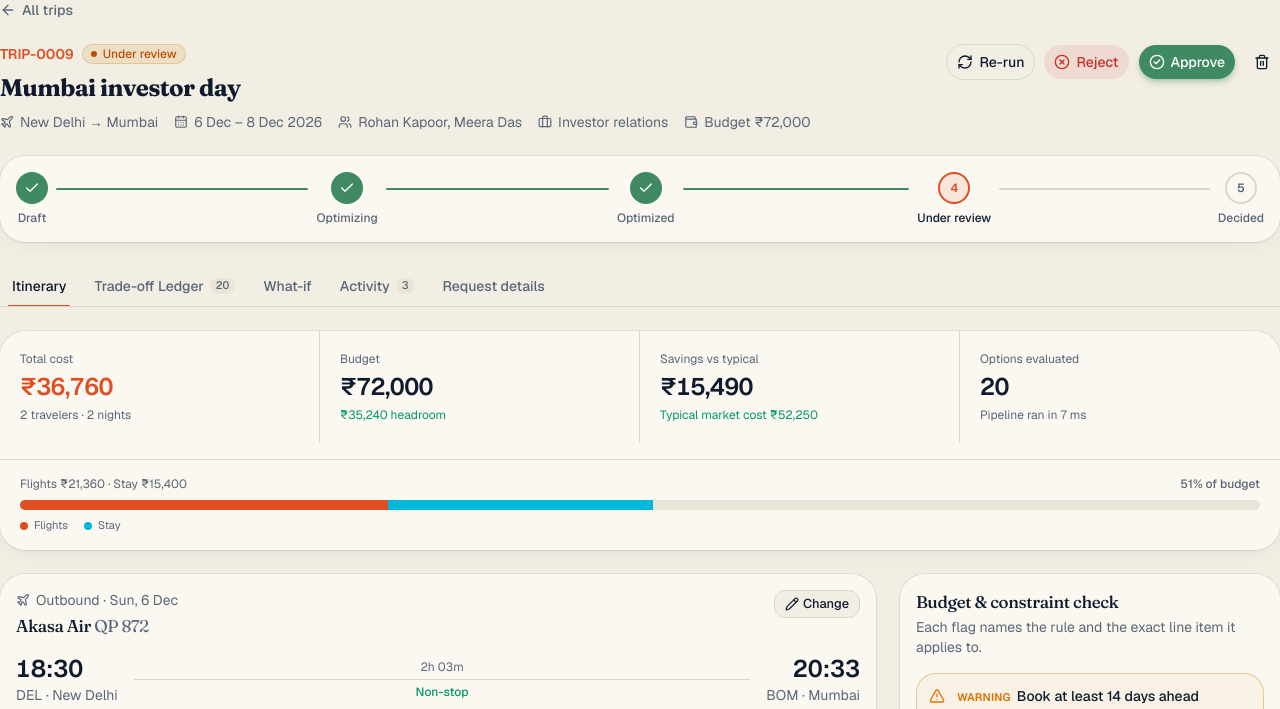
Test: trip review › won't reject without a reason
Click the button "Reject" at (1086, 62), box [1043,44,1130,80]
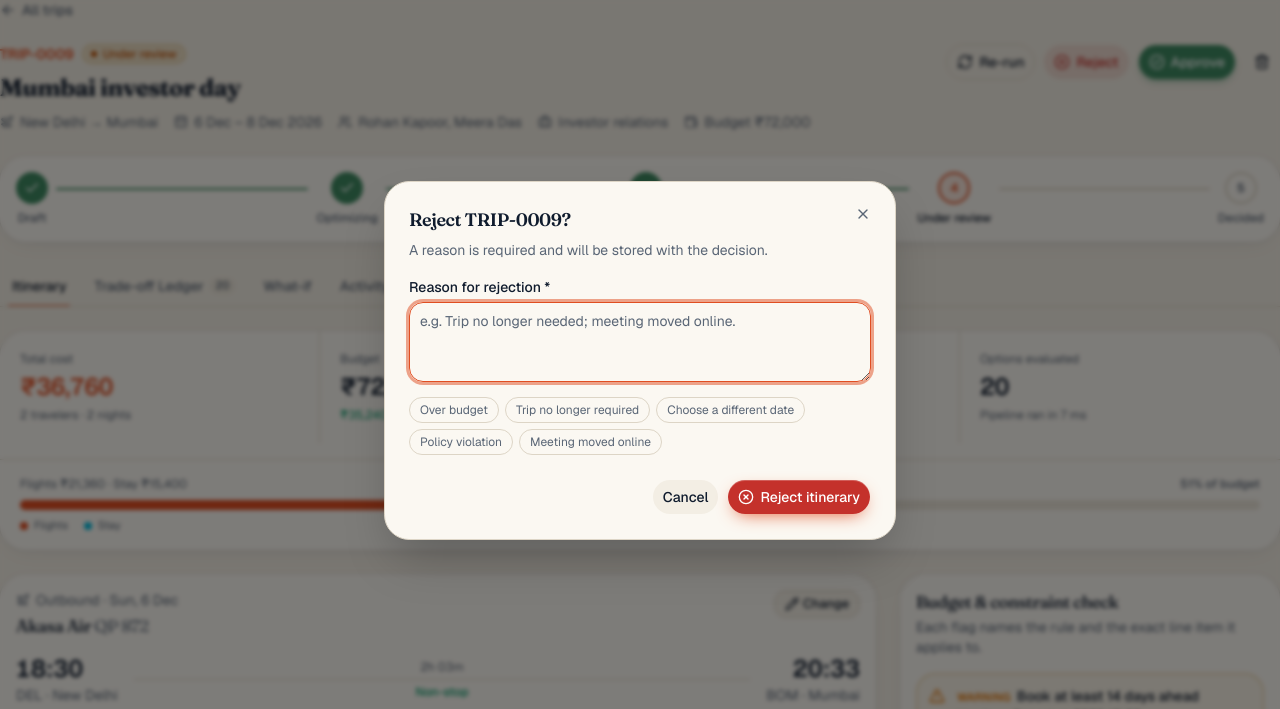
Click the button "Reject itinerary" at (799, 496), box [727,478,871,514]
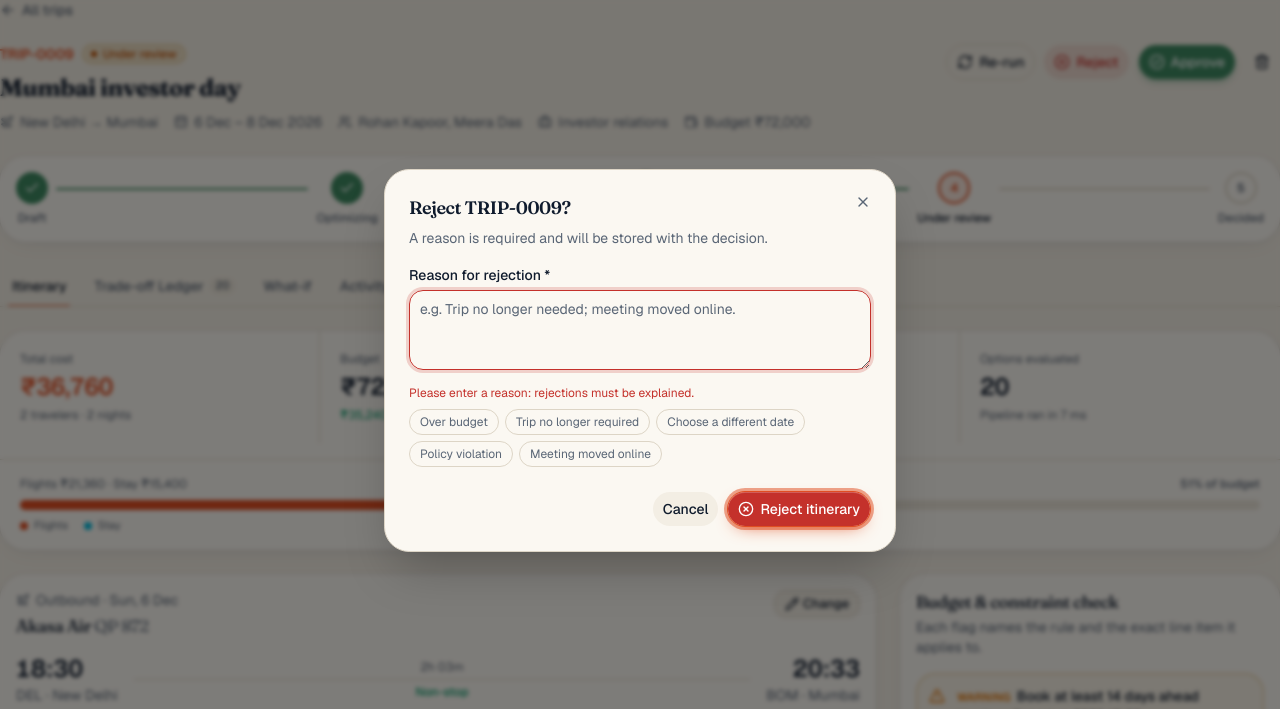
expect the text "Please enter a reason: rejections must be explained." is shown: met, box [409,384,694,400]
